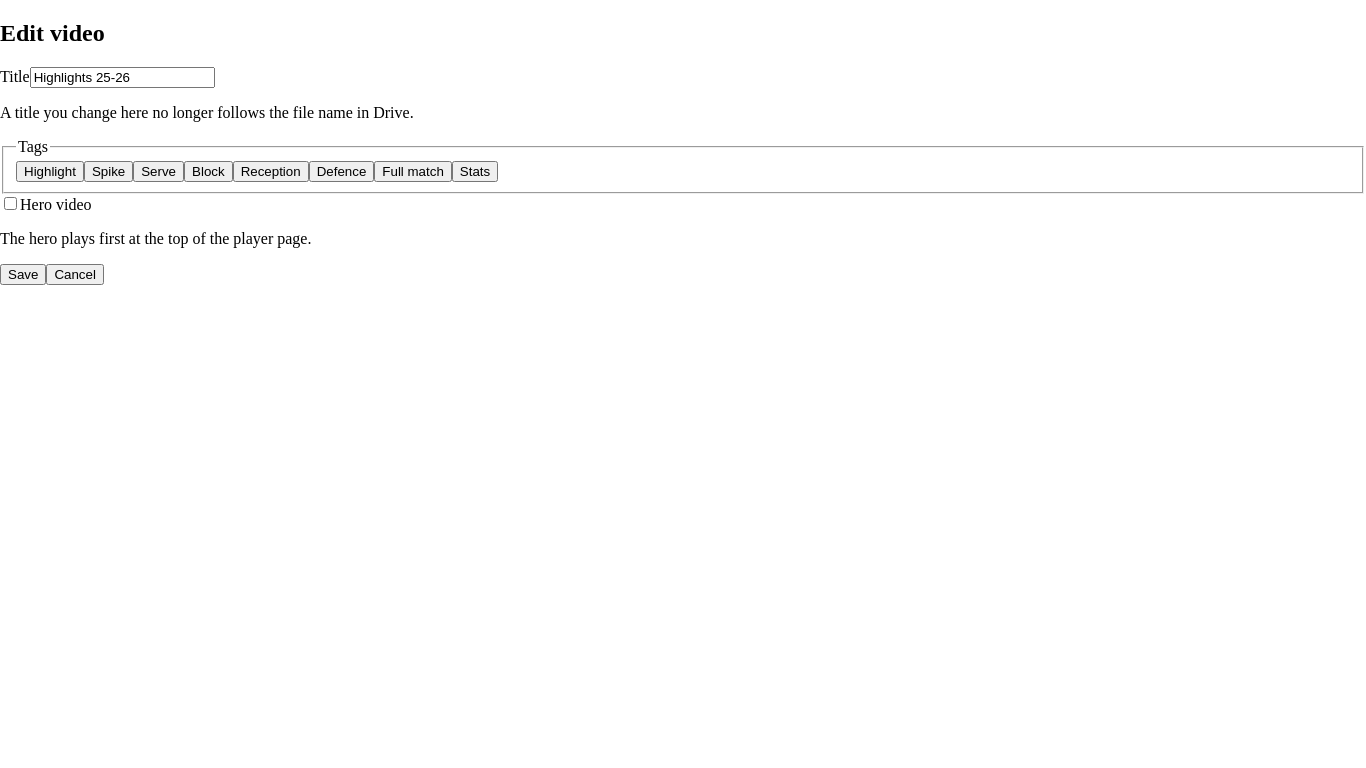
Test: EditVideoSheet › says when nothing changed, without calling the API
This screenshot has width=1366, height=768.
Click the button "Save" at (23, 275), box [0, 264, 46, 285]
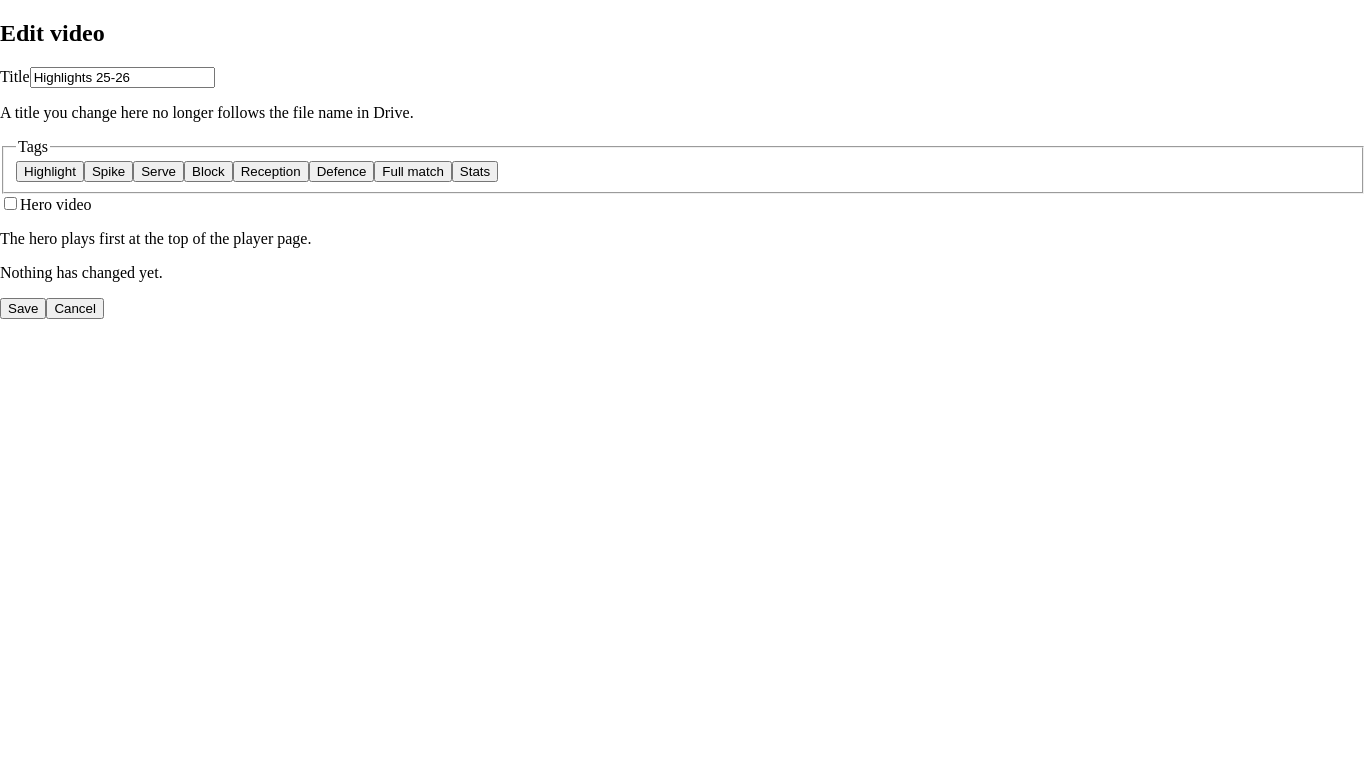
Now the message reads "Nothing has changed yet.", box [0, 264, 163, 281]
